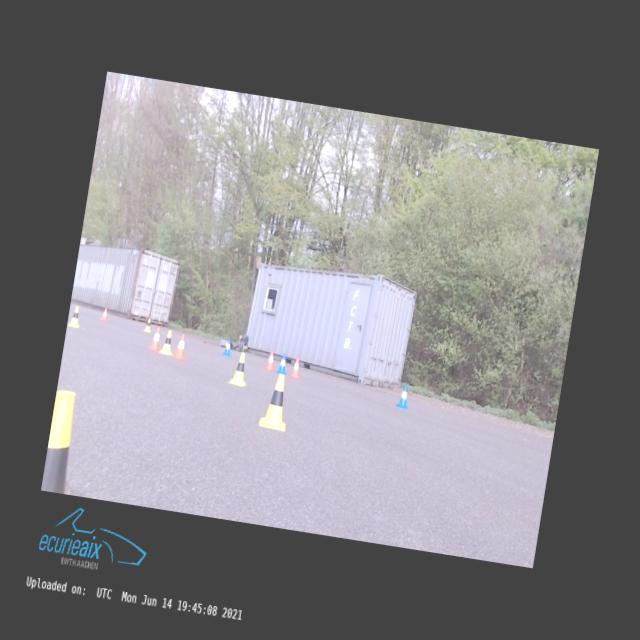blue_cone: (397, 386, 411, 408), (276, 354, 288, 374), (222, 340, 232, 356)
orange_cone: (172, 332, 188, 360), (149, 326, 163, 351), (265, 351, 277, 371), (290, 358, 302, 378), (100, 308, 108, 320)
yellow_cone: (41, 390, 81, 494), (258, 372, 294, 432), (228, 352, 251, 387), (159, 329, 175, 355), (68, 304, 82, 328), (144, 318, 152, 332)
